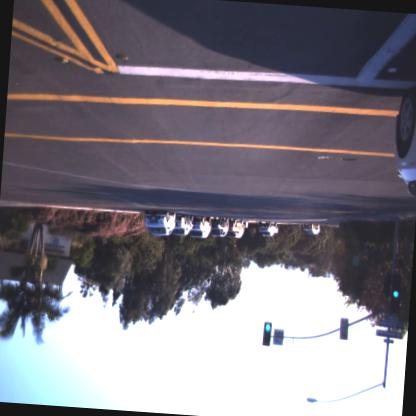trafficlight: (384, 273, 402, 316), (262, 320, 272, 347)
